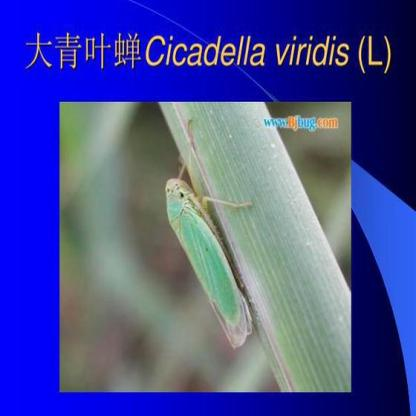Green-Leafhopper: (157, 143, 259, 347)
